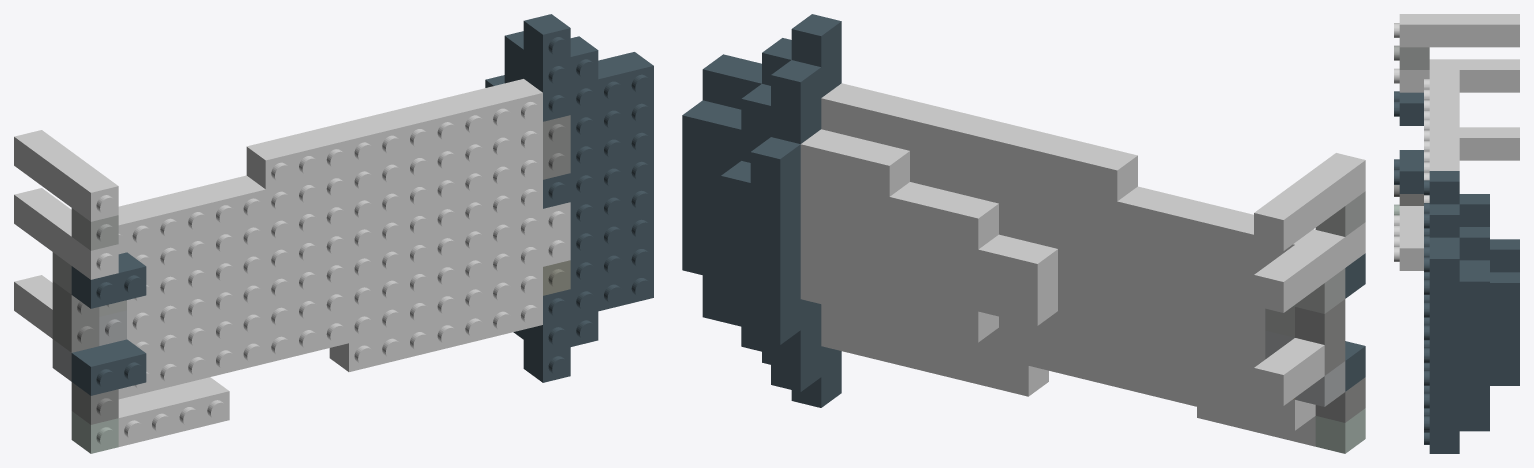
Rendered from full.glb.
3 views of the same model, side by side, from view 1: azimuth 30°, elevation 25°; view 2: azimuth 150°, elevation 25°; view 3: azimuth 270°, elevation 25° (orthographic). The views are drawn at different scales.
Parts seen in each view (by area): view 1: world; view 2: world; view 3: world.
Boxes of the visible parts, box(x1,y1,x2,y2) form: world: box(14, 14, 653, 453); world: box(682, 14, 1365, 453); world: box(1394, 14, 1519, 453).
Bounding box in the file's own units: 168 × 96 × 40.2.
